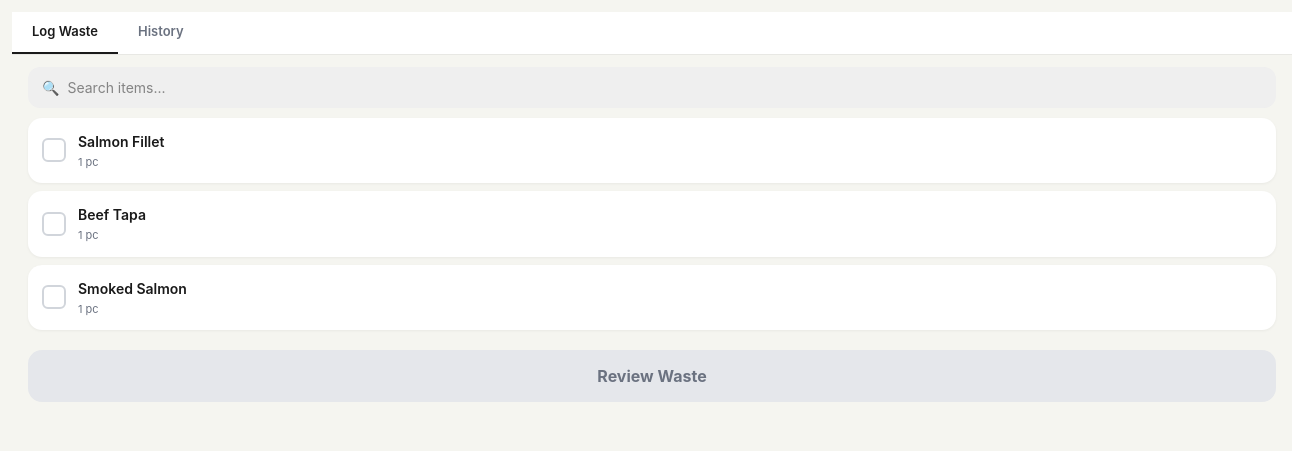
Scenario: WasteContent review screen › Submit button is enabled when all items have reasons
Click the element with test id "item-row-Salmon Fillet": (652, 150) [28, 118, 1276, 183]
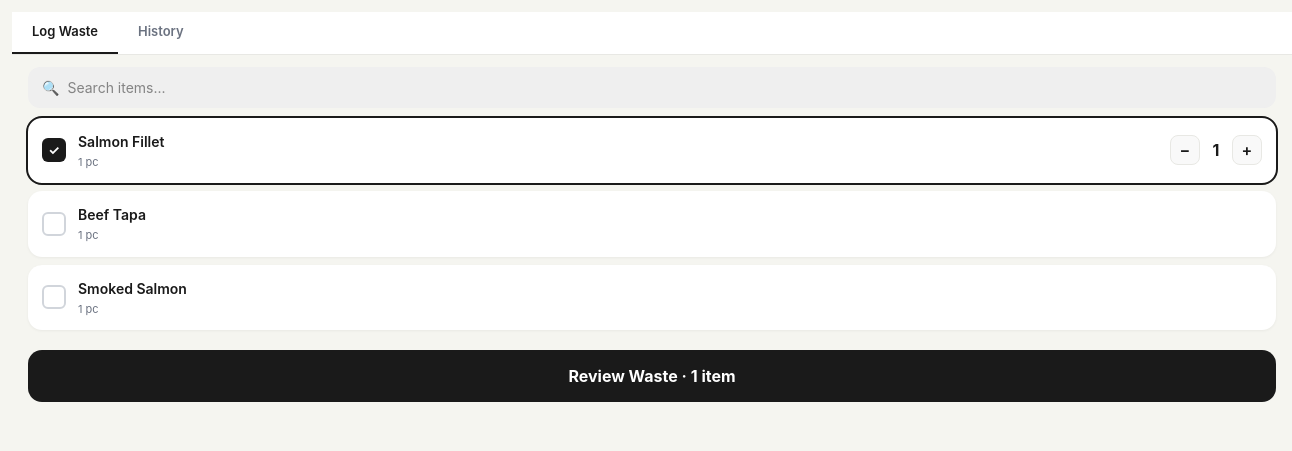
Click the button with test id "inc-Salmon Fillet": (1247, 150) [1232, 135, 1262, 165]
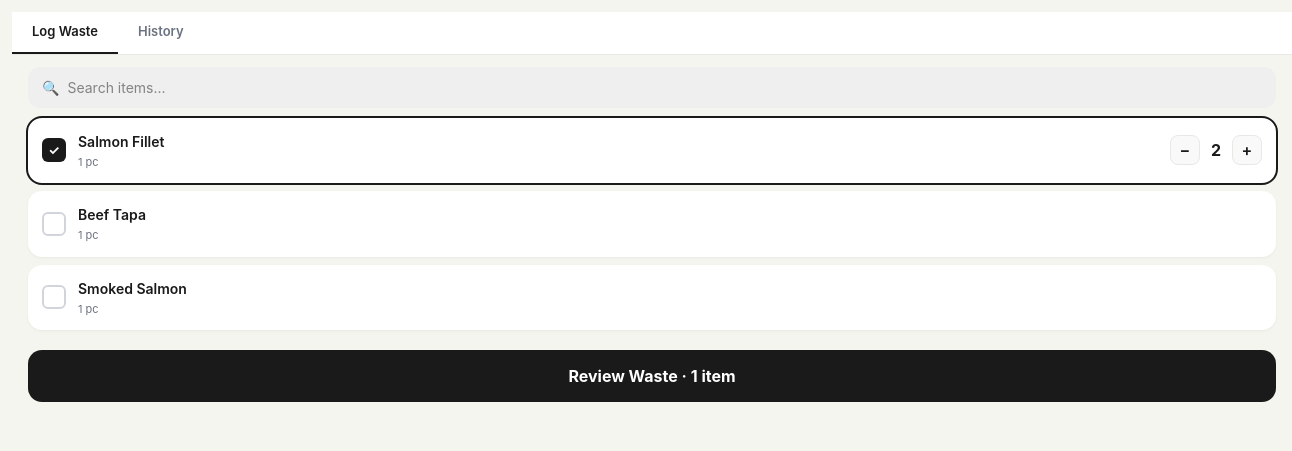
Click the element with test id "item-row-Beef Tapa": (652, 224) [28, 191, 1276, 256]
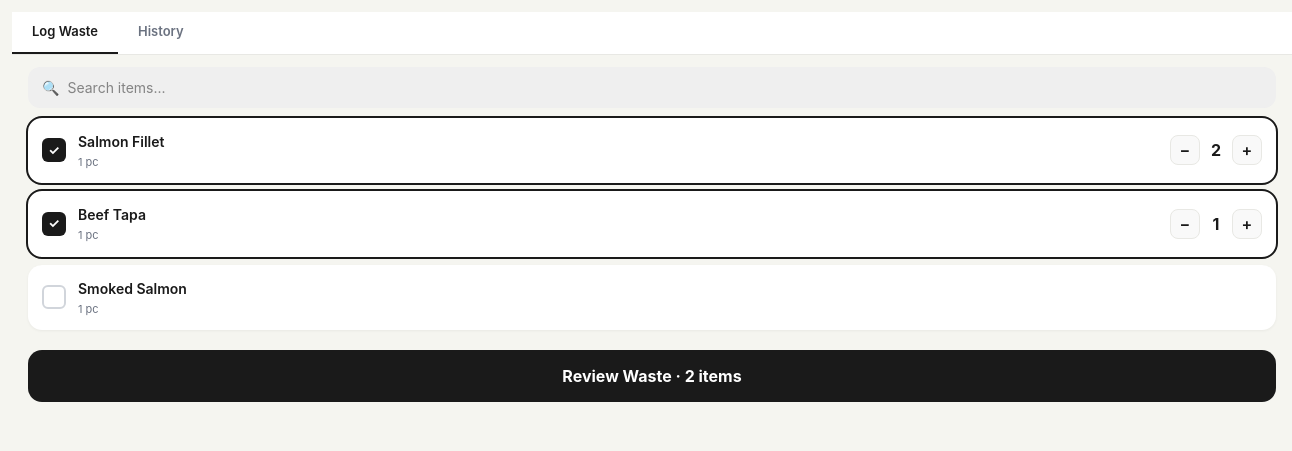
Click the button "Review Waste · 2 items": (652, 376) [28, 350, 1276, 402]
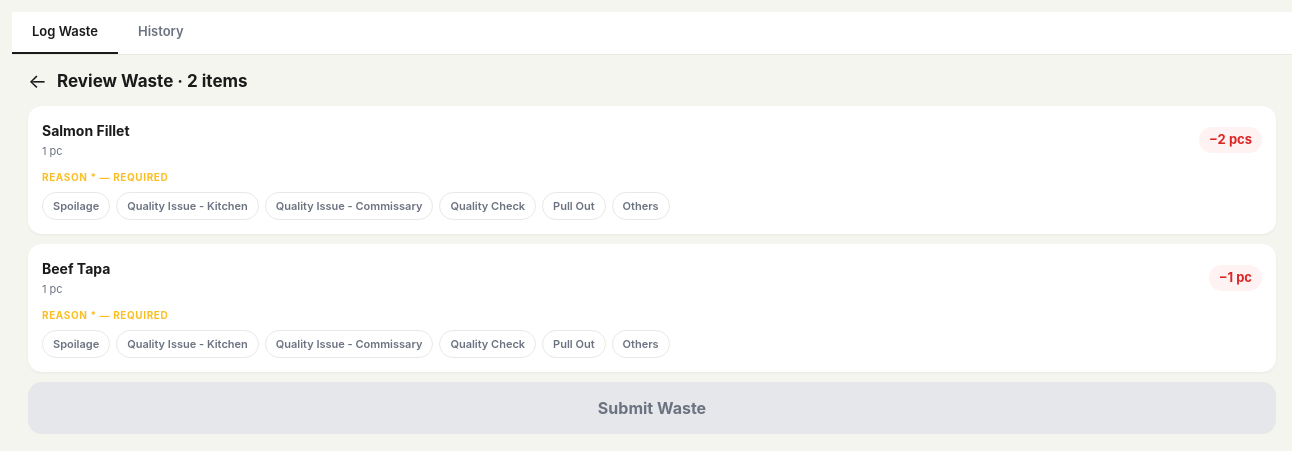
Click the button with test id "reason-Salmon Fillet-Spoilage": (76, 206) [42, 192, 110, 220]
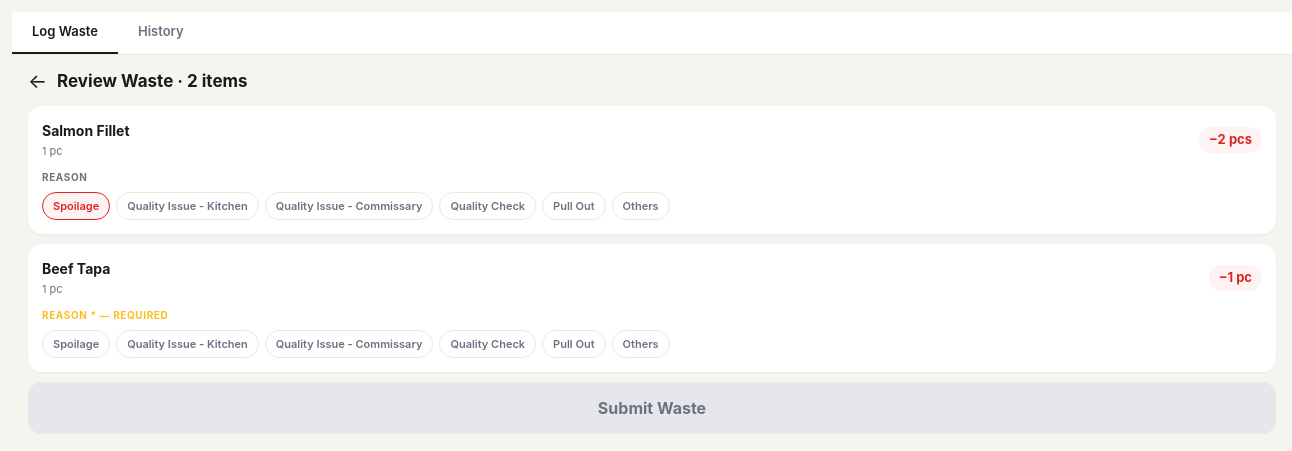
Click the button with test id "reason-Beef Tapa-Quality Issue - Kitchen": (188, 344) [116, 330, 259, 358]
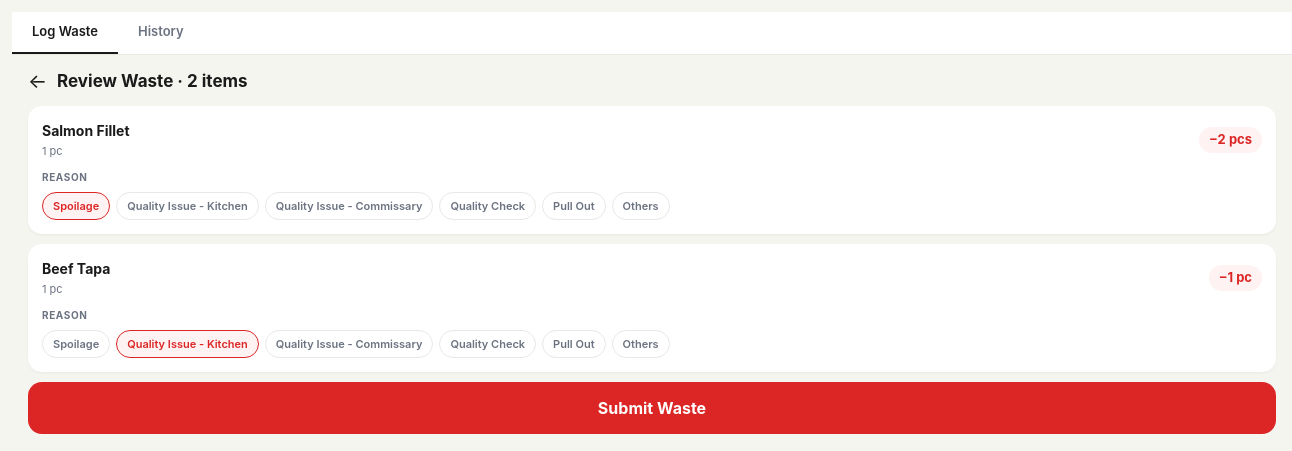
Expected: the button "Submit Waste" is enabled, [28, 382, 1276, 434]
